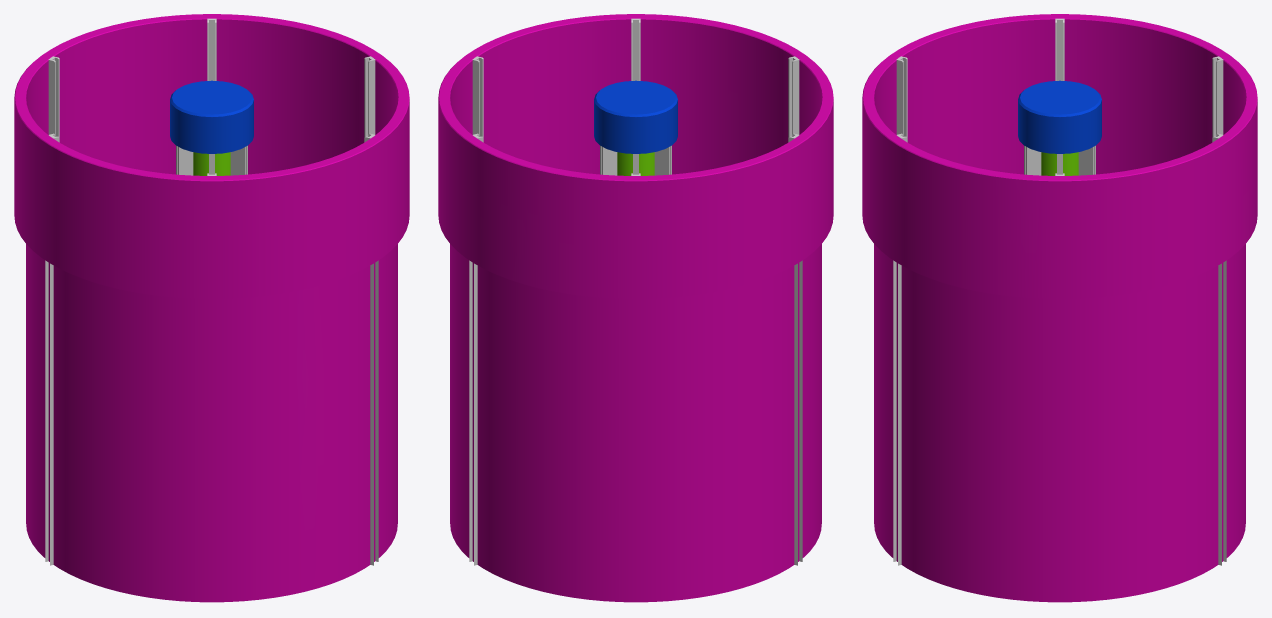
Rendered from ruleta_Controno_Low.fbx.
The picture shows the model from 3 angles, left to right: view 1: azimuth 30°, elevation 25°; view 2: azimuth 150°, elevation 25°; view 3: azimuth 270°, elevation 25°; orthographic projection.
Visible parts, largest first — view 1: ruleta_low, rails_low; view 2: ruleta_low, rails_low; view 3: ruleta_low, rails_low.
Boxes of the visible parts, <box> form: ruleta_low: <box>14,14,409,602</box>; rails_low: <box>45,18,378,565</box>; ruleta_low: <box>438,14,833,602</box>; rails_low: <box>469,18,802,565</box>; ruleta_low: <box>862,14,1257,602</box>; rails_low: <box>893,18,1226,565</box>.
Bounding box in the file's own units: 198 × 236 × 198.
